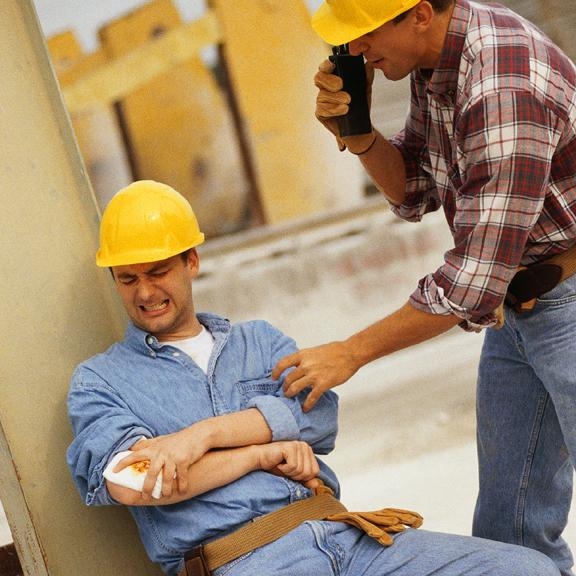helmet: (94, 180, 206, 273), (311, 1, 433, 49)
